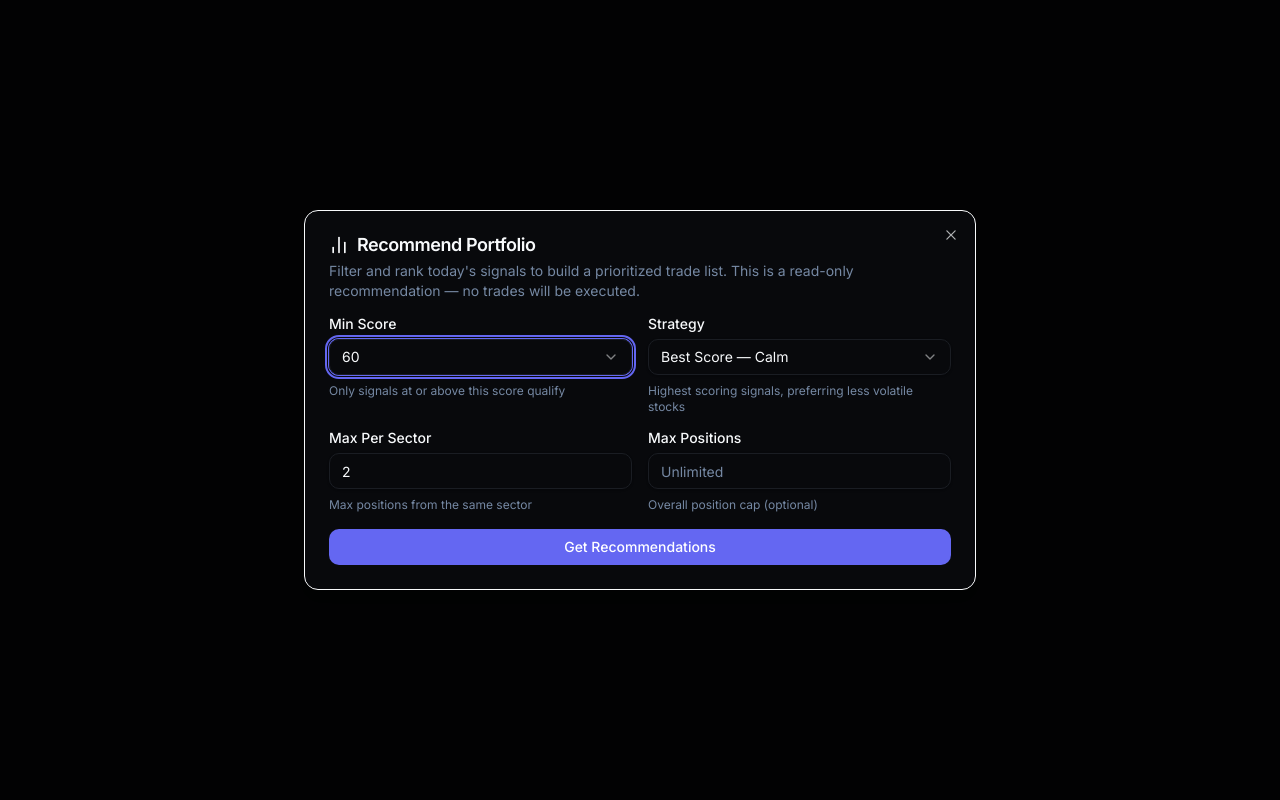
Test case: RecommendPortfolioDialog › Rendering › renders all strategy options in the select
This screenshot has width=1280, height=800.
# Strategy is the second combobox (after min score)
Click the dropdown labelled "Best Score — Calm" at (725, 356), box [648,339,951,375]
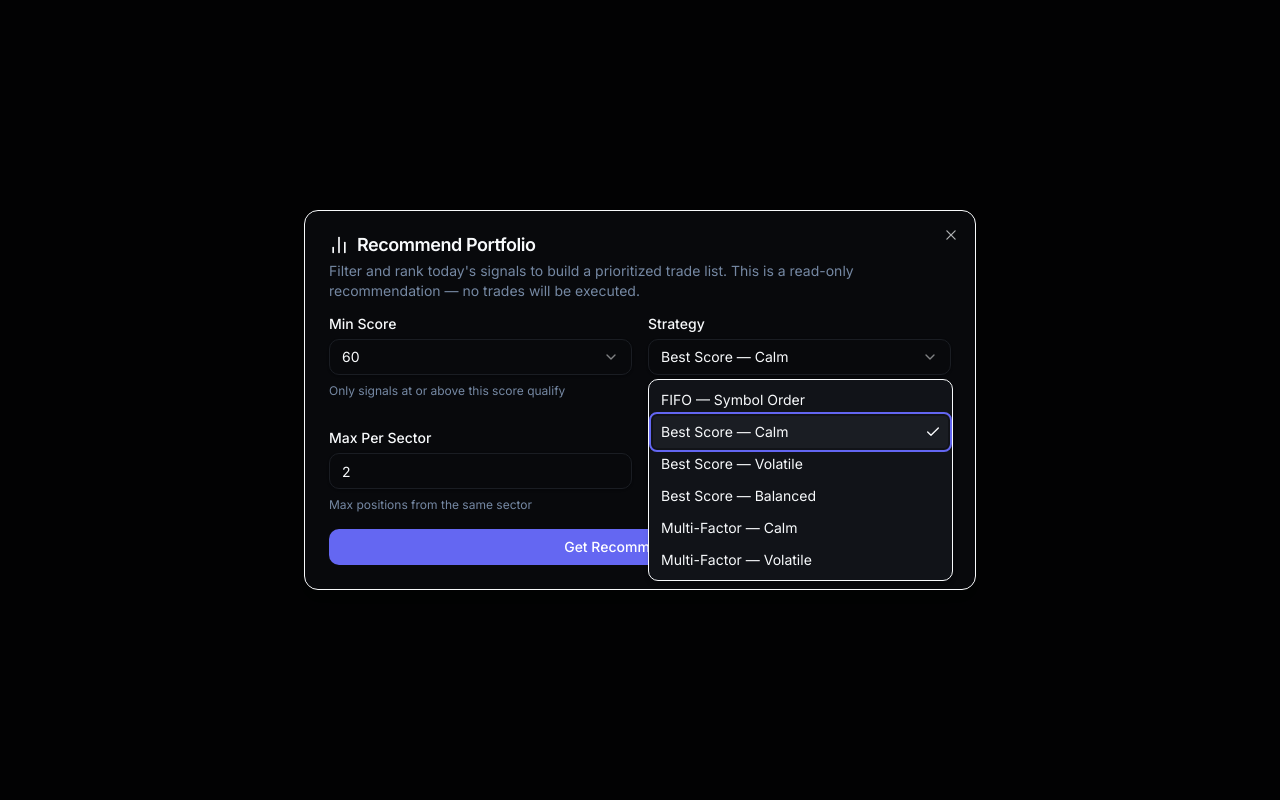
Expected: the text "FIFO — Symbol Order" is shown, [661,390,805,410]
Expected: the text "Best Score — Volatile" is shown, [661,454,803,474]
Expected: the text "Best Score — Balanced" is shown, [661,486,816,506]
